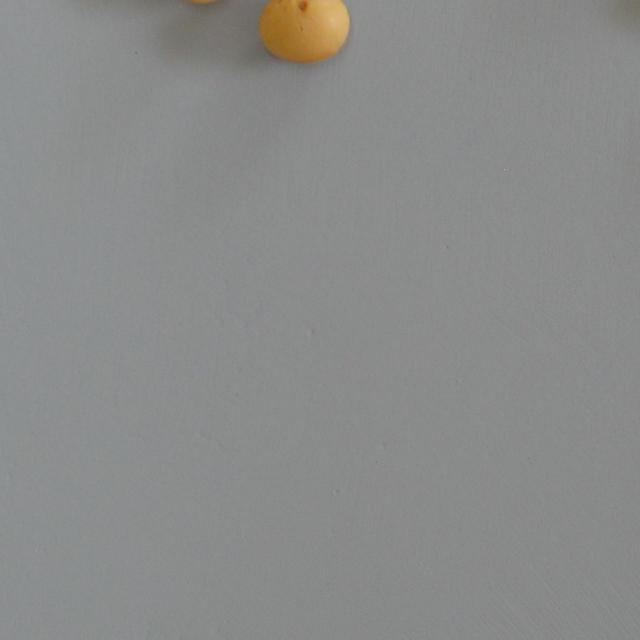cuerpos_extranos: (252, 0, 352, 68)
